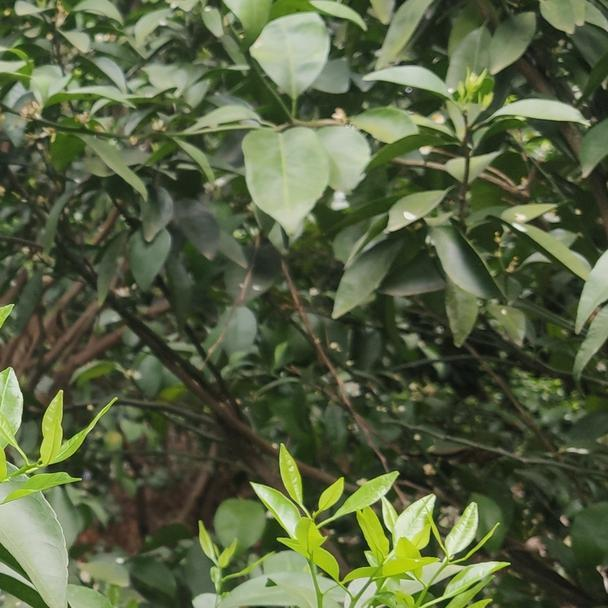shoot: (261, 455, 402, 605), (3, 371, 102, 507), (398, 503, 507, 605)
